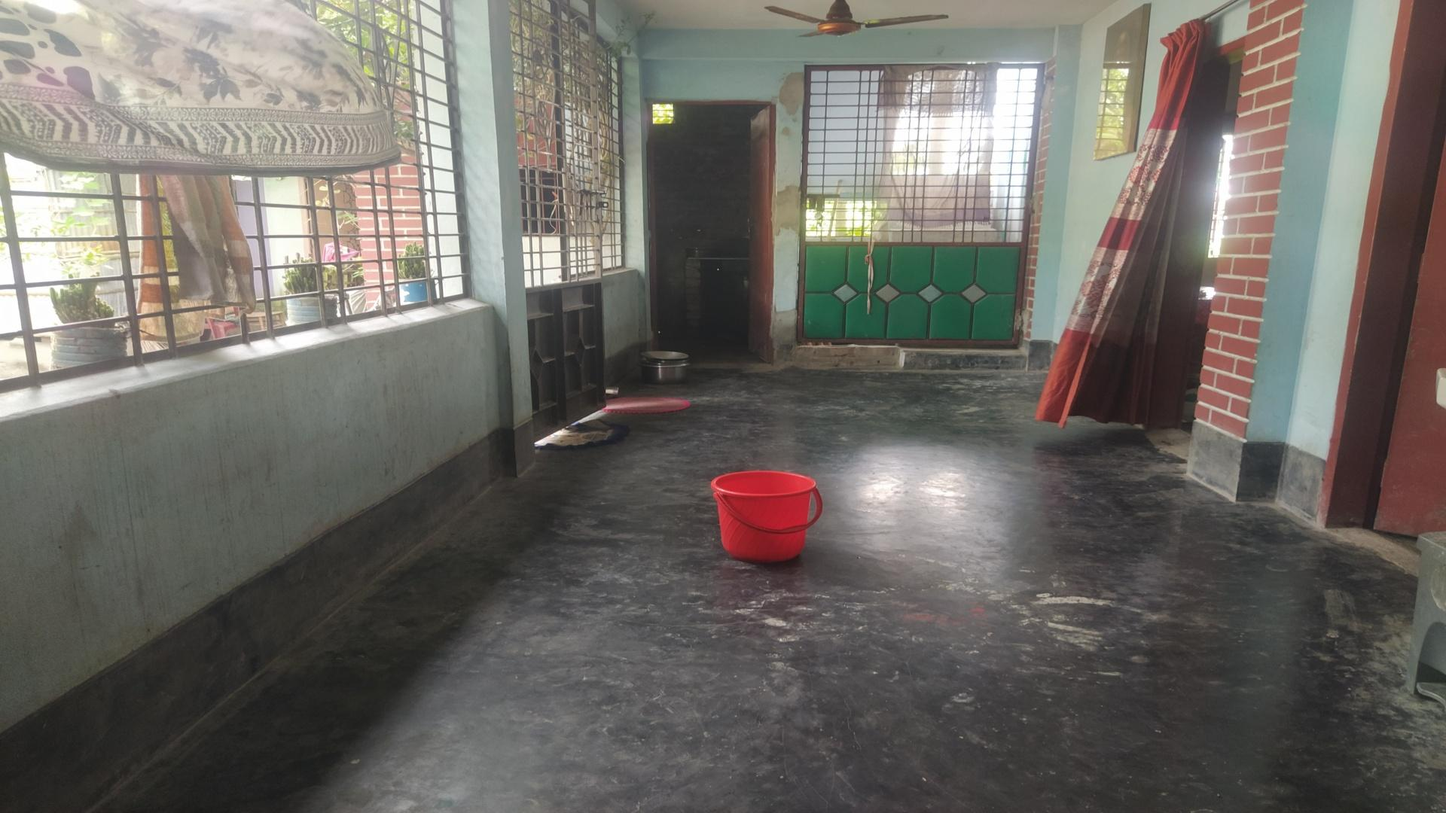Bucket: (711, 476, 820, 564)
Door: (803, 65, 1035, 347), (643, 100, 772, 364)
